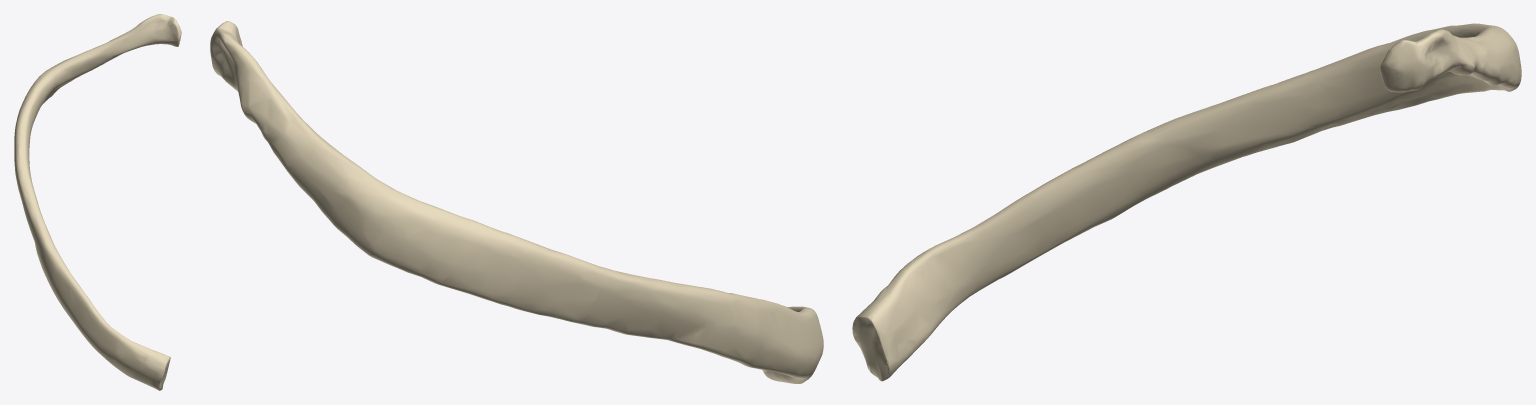
The model's file is esqueleto-seventh-rib-r.glb.
The picture shows the model from 3 angles, left to right: view 1: azimuth 30°, elevation 25°; view 2: azimuth 150°, elevation 25°; view 3: azimuth 270°, elevation 25°; orthographic projection. The views are drawn at different scales.
Parts seen in each view (by area): view 1: Seventh rib.r; view 2: Seventh rib.r; view 3: Seventh rib.r.
Part boxes in pixels (<box>): Seventh rib.r: <box>14,14,181,390</box>; Seventh rib.r: <box>210,21,823,383</box>; Seventh rib.r: <box>852,23,1521,381</box>.
Size of the model in its own units: 0.1252 by 0.1444 by 0.1816.
